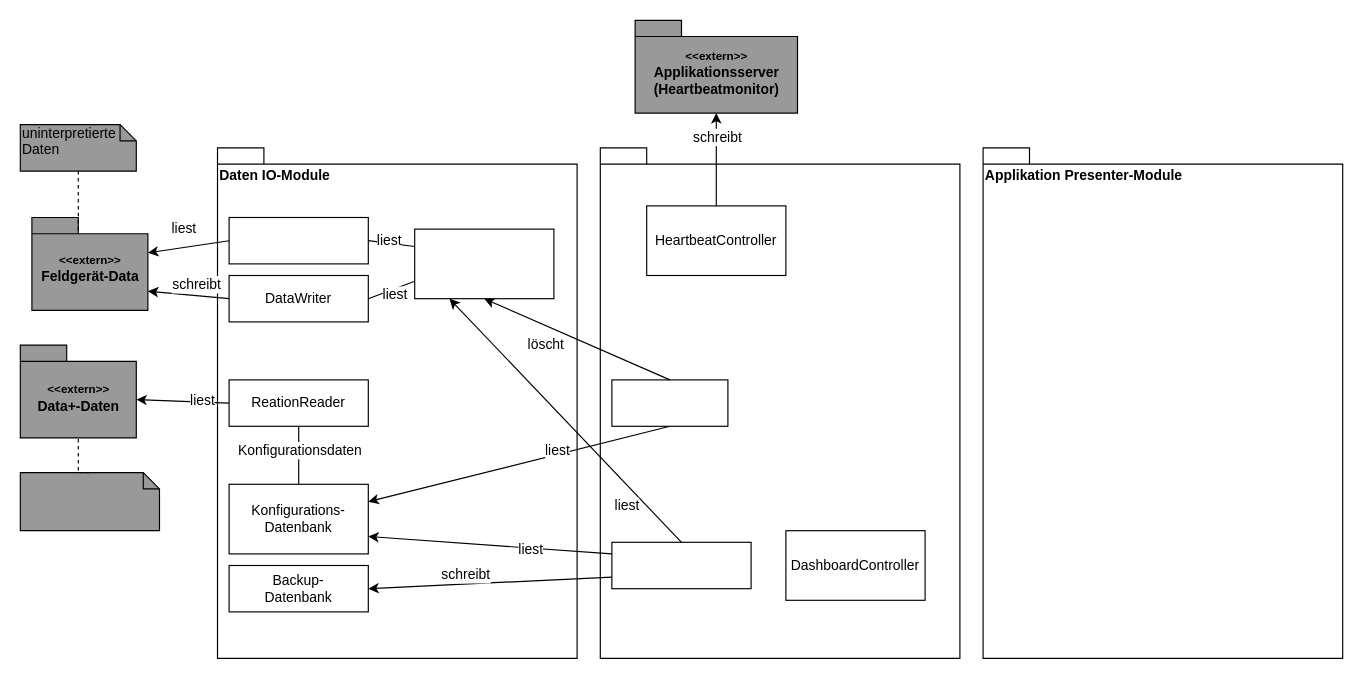
This 1363x679 diagram has some shape labels left out. The box of each missing label's shape, as (x1, y1, x2, y2) in pixels:
4 Konfigurationsdaten: (19, 472, 160, 531)
Control-Module: (599, 147, 960, 658)
DataReader: (228, 216, 368, 264)
FilterController: (611, 379, 728, 426)
hotSpareController: (611, 541, 751, 589)
Rohdaten- Datenbank: (414, 228, 554, 299)
